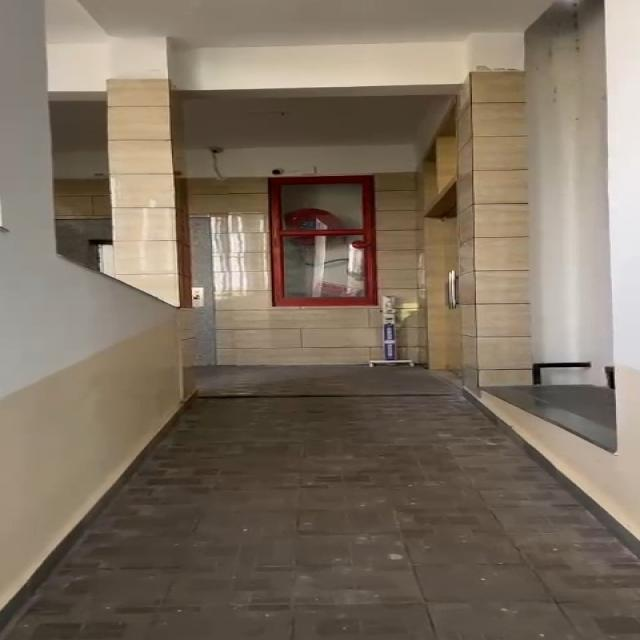floor: (165, 371, 511, 640)
wall: (0, 0, 247, 387), (445, 58, 640, 360)
